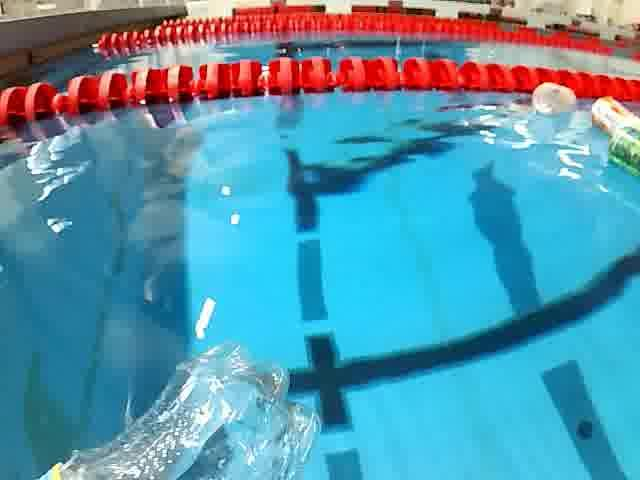Bottle: (13, 336, 329, 480), (526, 79, 582, 120)
Can: (586, 92, 640, 142), (604, 122, 640, 177)
